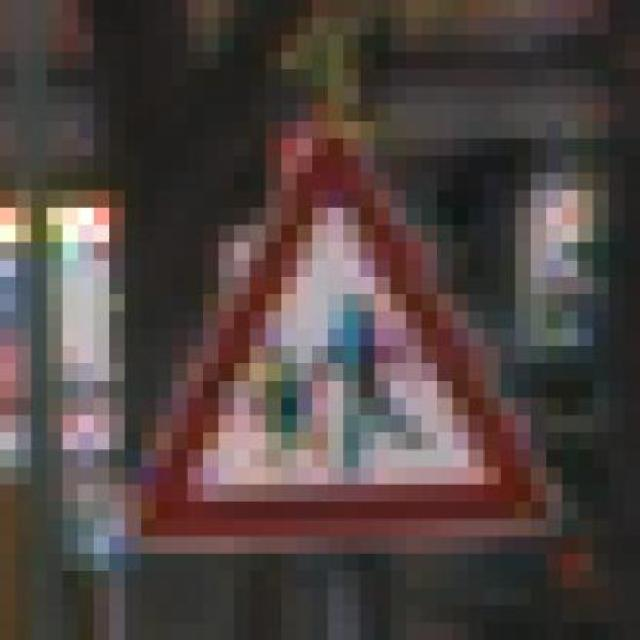Beware of children: (78, 103, 547, 554)
